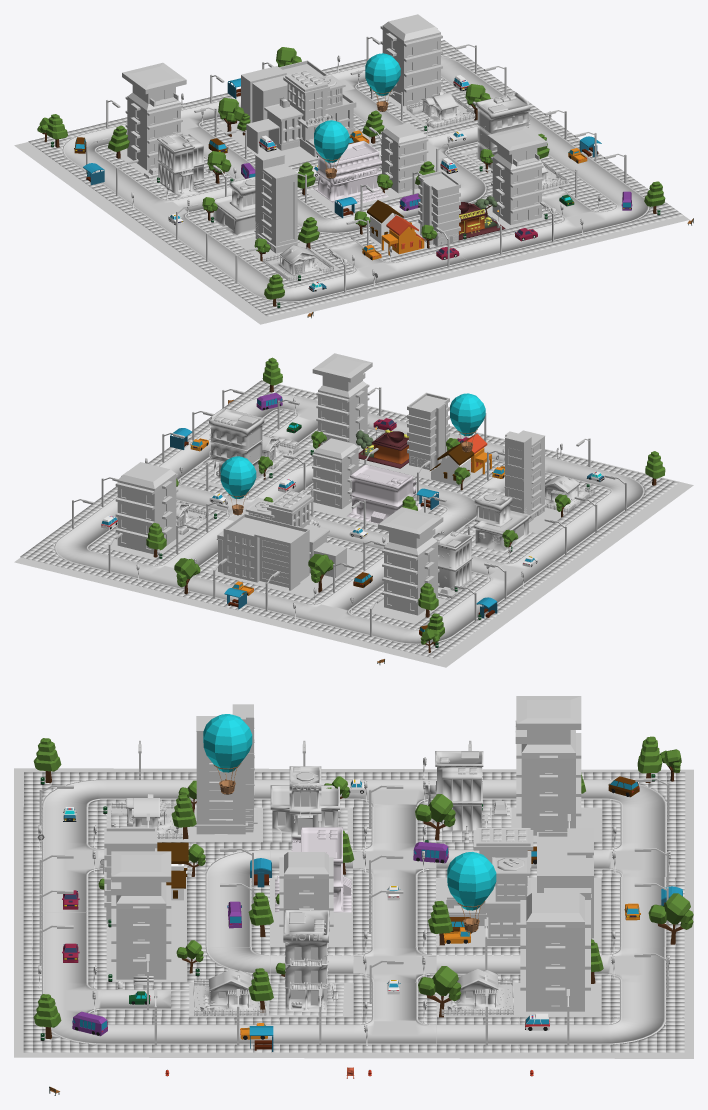
Rendered from Full City.glb.
3 renders of one model, top to bottom at view 1: azimuth 30°, elevation 25°; view 2: azimuth 150°, elevation 25°; view 3: azimuth 270°, elevation 25°, orthographic. The views are drawn at different scales.
Parts seen in each view (by area): view 1: Plane, Helipad, apartment2, apartment2.001, apartment.001, Grocery Store, Large Apartments, Bank, apartment, Hotel, Office, Police Station (+51 smaller); view 2: Plane, apartment2, apartment.001, apartment2.001, Office_2, Hotel, Grocery Store, Police Station, Helipad, apartment, Large Apartments, Office (+55 smaller); view 3: Plane, apartment2, apartment.001, apartment2.001, Hotel, Helipad, Bank, Police Station, Large Apartments, apartment, Road_B.005, Road_B (+64 smaller).
Boxes of the visible parts, x1=… form: Plane: x1=14, y1=89, x2=689, y2=324; Helipad: x1=246, y1=70, x2=356, y2=156; apartment2: x1=122, y1=62, x2=186, y2=170; apartment2.001: x1=487, y1=126, x2=547, y2=224; apartment.001: x1=380, y1=14, x2=442, y2=106; Grocery Store: x1=313, y1=140, x2=388, y2=207; Large Apartments: x1=254, y1=150, x2=299, y2=253; Bank: x1=144, y1=134, x2=221, y2=197; apartment: x1=380, y1=123, x2=428, y2=193; Hotel: x1=467, y1=92, x2=530, y2=174; Office: x1=418, y1=170, x2=460, y2=246; Police Station: x1=204, y1=176, x2=255, y2=240; Plane: x1=14, y1=380, x2=693, y2=667; apartment2: x1=378, y1=507, x2=443, y2=615; apartment.001: x1=115, y1=462, x2=178, y2=554; apartment2.001: x1=312, y1=353, x2=372, y2=446; Office_2: x1=217, y1=513, x2=309, y2=590; Hotel: x1=200, y1=407, x2=273, y2=486; Grocery Store: x1=347, y1=464, x2=422, y2=523; Police Station: x1=470, y1=491, x2=538, y2=556; Helipad: x1=245, y1=490, x2=346, y2=577; apartment: x1=312, y1=438, x2=359, y2=508; Large Apartments: x1=504, y1=430, x2=547, y2=522; Office: x1=407, y1=392, x2=449, y2=469; Plane: x1=14, y1=768, x2=693, y2=1058; apartment2: x1=515, y1=696, x2=581, y2=835; apartment.001: x1=520, y1=893, x2=590, y2=1011; apartment2.001: x1=111, y1=851, x2=171, y2=979; Hotel: x1=269, y1=909, x2=344, y2=1015; Helipad: x1=446, y1=828, x2=533, y2=945; Bank: x1=422, y1=751, x2=511, y2=842; Police Station: x1=263, y1=766, x2=347, y2=844; Large Apartments: x1=194, y1=704, x2=257, y2=834; apartment: x1=279, y1=852, x2=333, y2=942; Road_B.005: x1=602, y1=778, x2=685, y2=842; Road_B: x1=601, y1=953, x2=684, y2=1017.
Bounding box in the file's own units: 21.07 × 5.86 × 20.06.
25 materials, 8 textured.
